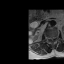CCS_normal: (51, 34, 53, 42)
LFS_normal: (54, 34, 56, 40)
LLS_normal: (53, 34, 54, 40)
RFS_normal: (48, 35, 49, 41)
RLS_normal: (49, 35, 51, 41)
